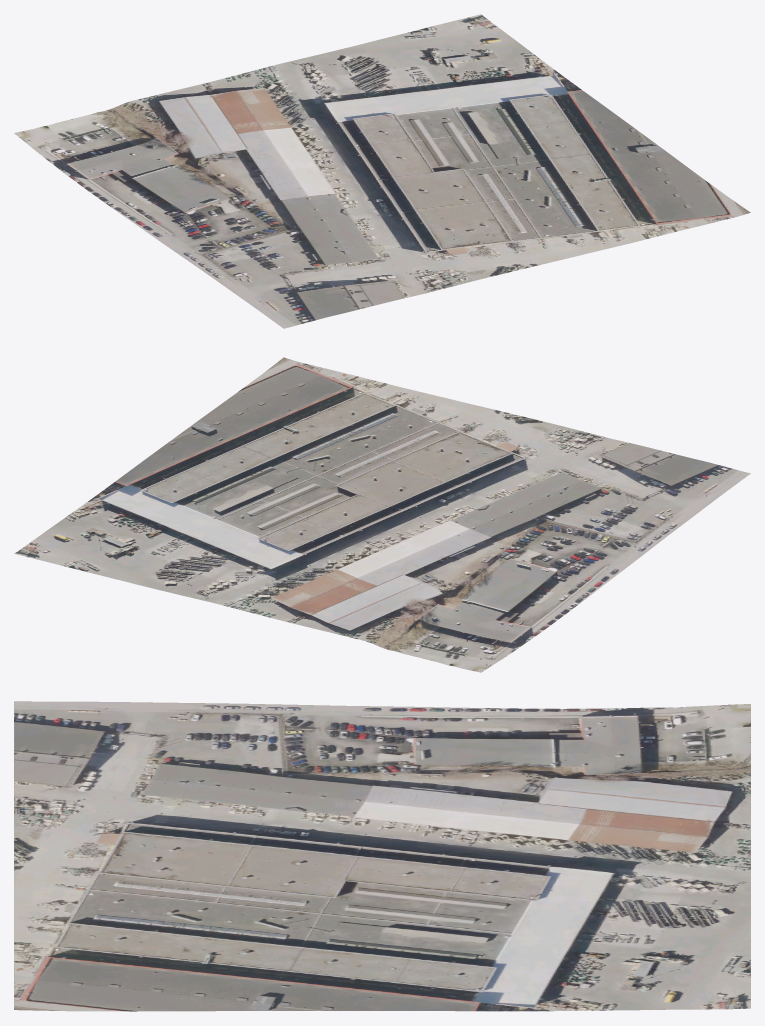
File: CM_Terrain_24487592_6819180.fbx
3 views of the same model, one above another, from view 1: azimuth 30°, elevation 25°; view 2: azimuth 150°, elevation 25°; view 3: azimuth 270°, elevation 25° (orthographic). The views are drawn at different scales.
Parts seen in each view (by area): view 1: CM_Terrain_24487592_6819180_LOD0; view 2: CM_Terrain_24487592_6819180_LOD0; view 3: CM_Terrain_24487592_6819180_LOD0.
Boxes of the visible parts, box(x1,y1,x2,y2) form: CM_Terrain_24487592_6819180_LOD0: box(14, 14, 750, 328); CM_Terrain_24487592_6819180_LOD0: box(14, 357, 750, 672); CM_Terrain_24487592_6819180_LOD0: box(14, 701, 750, 1011).
Size of what is drawn, in the model's own units: 205 by 3.64 by 205.
